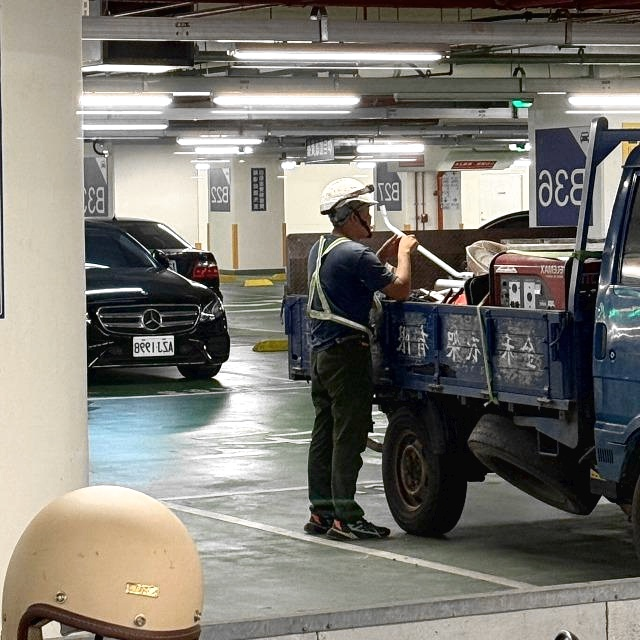Con_Casco: (318, 177, 379, 238)
Con_Chaleco: (307, 239, 377, 345)
